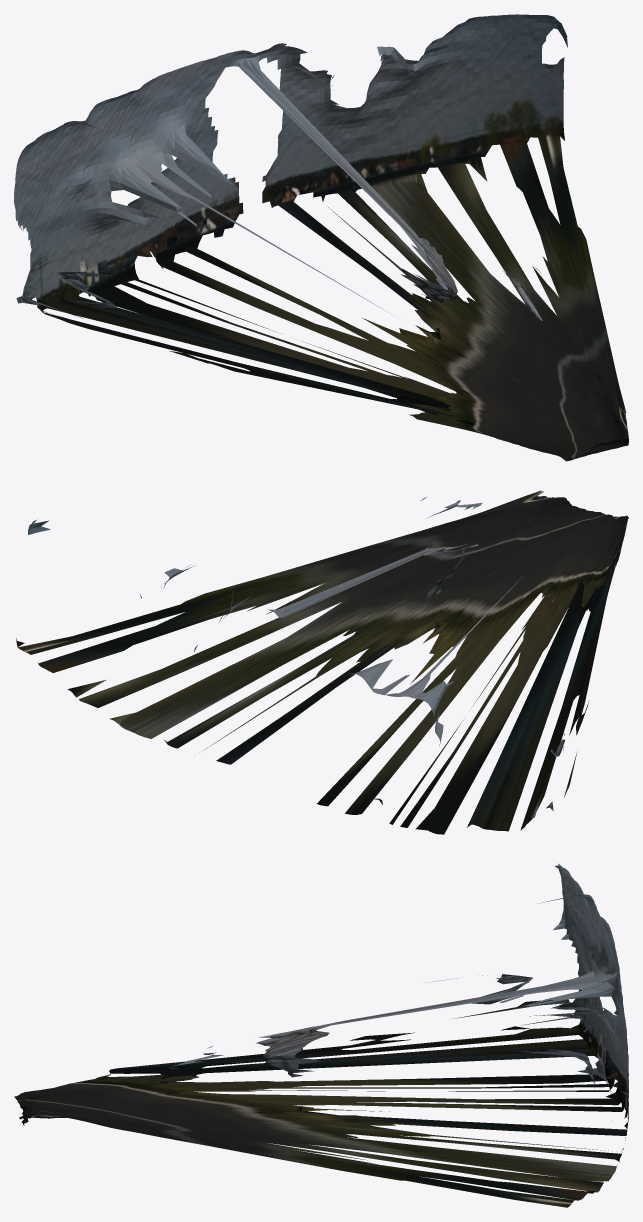
3 renders of one model, top to bottom at view 1: azimuth 30°, elevation 25°; view 2: azimuth 150°, elevation 25°; view 3: azimuth 270°, elevation 25°, orthographic. The views are drawn at different scales.
Parts seen in each view (by area): view 1: defaultobject; view 2: defaultobject; view 3: defaultobject.
Part boxes in pixels (x1,y1,x2,y2): defaultobject: (14,14,628,461); defaultobject: (16,490,628,834); defaultobject: (14,863,628,1207).
Size of the model in its own units: 41 by 14.52 by 44.65.
1 material, 1 textured.
